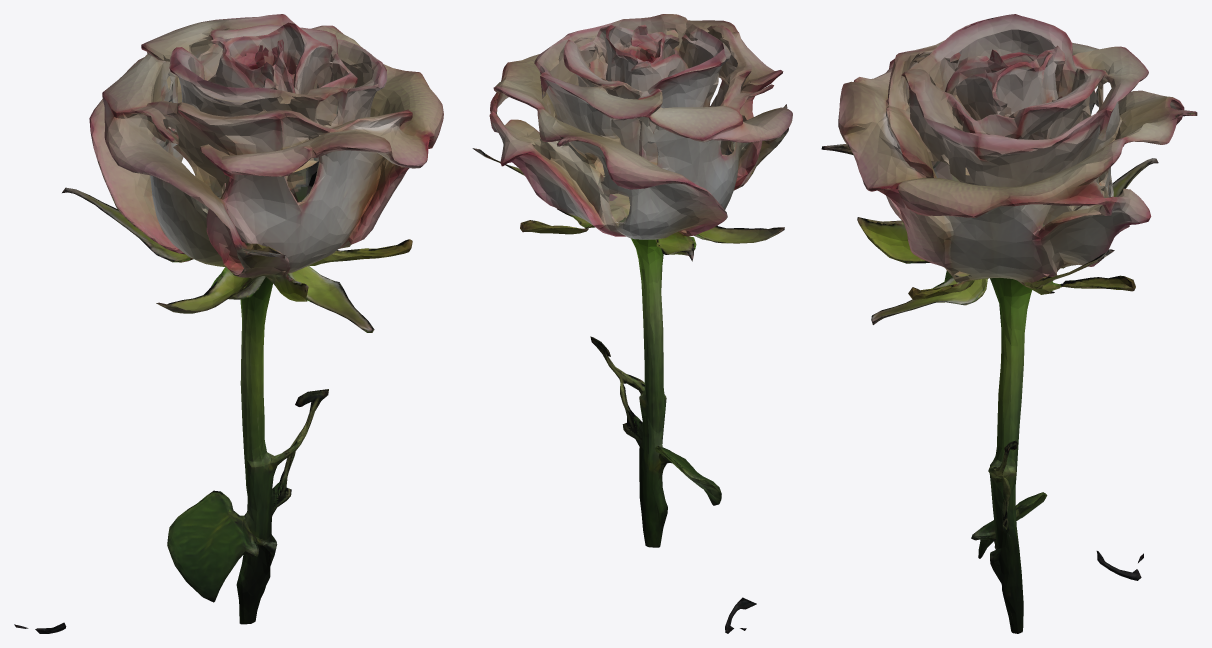
The picture shows the model from 3 angles, left to right: view 1: azimuth 30°, elevation 25°; view 2: azimuth 150°, elevation 25°; view 3: azimuth 270°, elevation 25°; orthographic projection. The views are drawn at different scales.
Parts seen in each view (by area): view 1: world; view 2: world; view 3: world.
Boxes of the visible parts, <box> form: world: <box>14,14,443,633</box>; world: <box>472,14,792,633</box>; world: <box>821,14,1197,633</box>.
Size of the model in its own units: 0.5835 by 0.9855 by 0.5475.
Materials: 1 (1 with a texture image).
